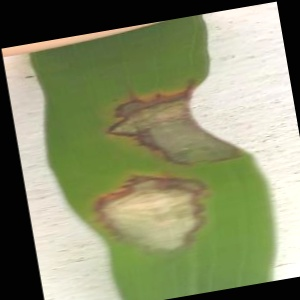Brown_Spot: (72, 171, 216, 271), (110, 79, 242, 177)
